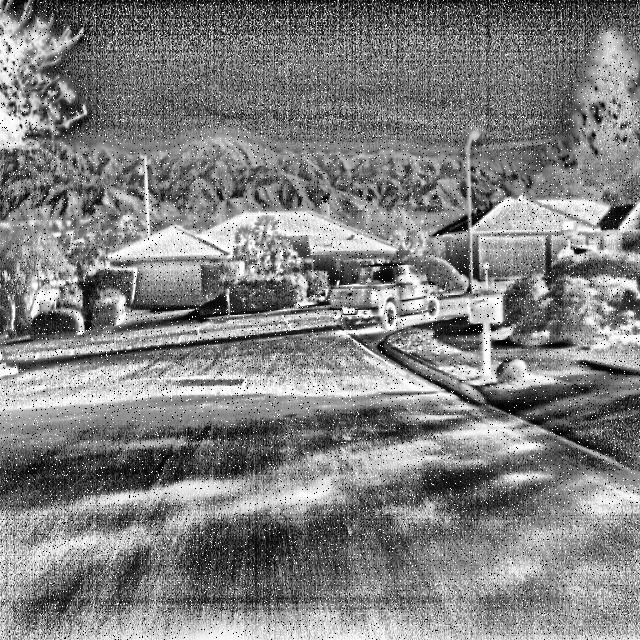car: (311, 234, 450, 342)
light: (454, 117, 497, 211)
trafficlight: (465, 281, 520, 385)
